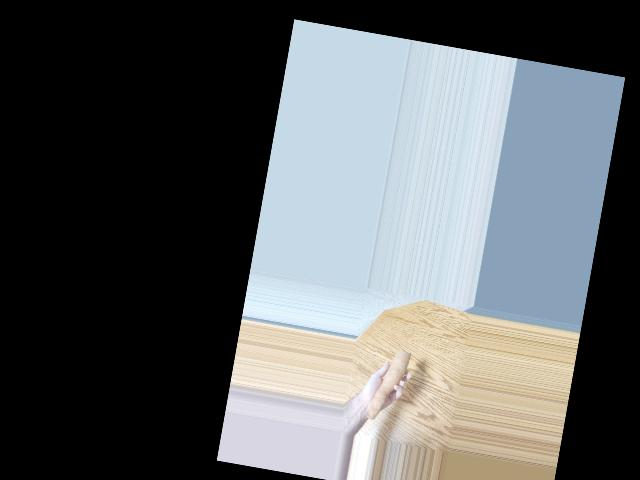sweet_potato: (364, 345, 413, 423)
